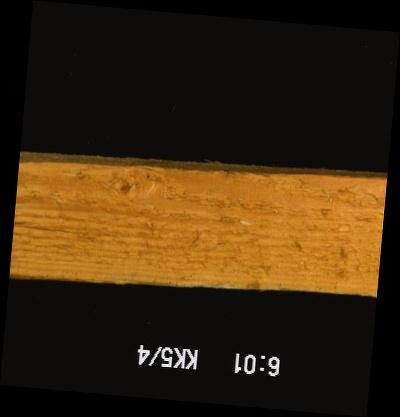small_knot: (103, 171, 139, 199)
